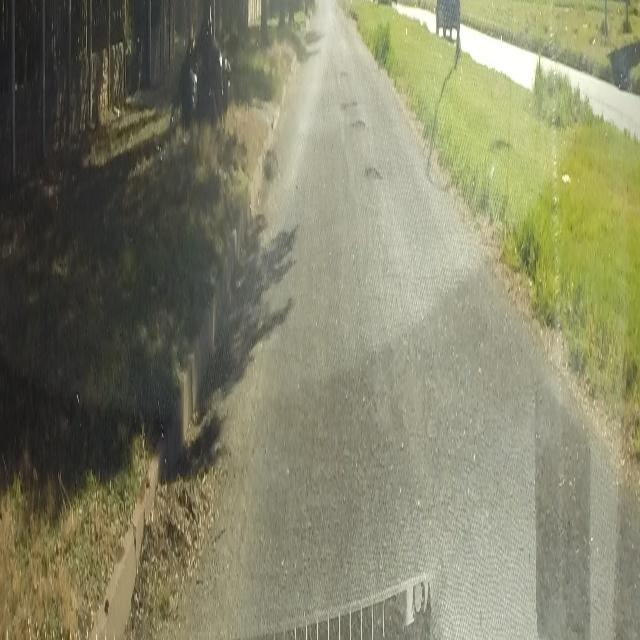pothole: (363, 160, 385, 184)
